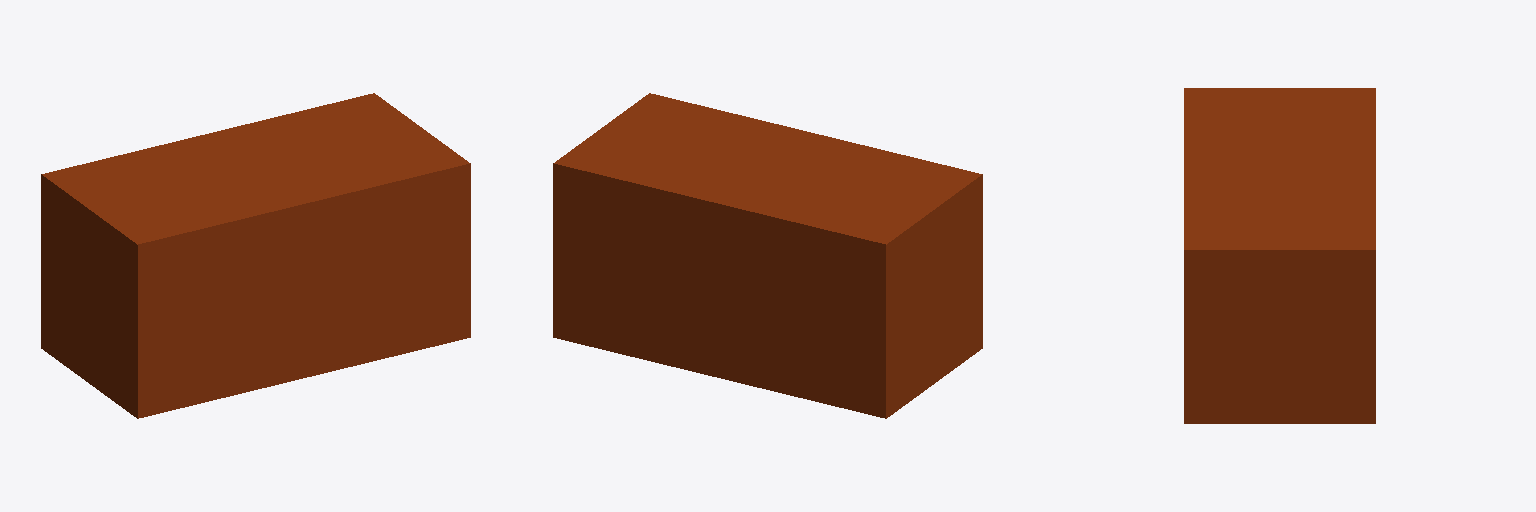
File: worm_body.obj
3 views of the same model, side by side, from view 1: azimuth 30°, elevation 25°; view 2: azimuth 150°, elevation 25°; view 3: azimuth 270°, elevation 25° (orthographic).
Visible parts, largest first — view 1: Cube_Cube.001; view 2: Cube_Cube.001; view 3: Cube_Cube.001.
Boxes of the visible parts, <box> form: Cube_Cube.001: <box>41,93,470,418</box>; Cube_Cube.001: <box>553,93,982,418</box>; Cube_Cube.001: <box>1184,88,1375,423</box>.
Bounding box in the file's own units: 0.4 × 0.2 × 0.2.